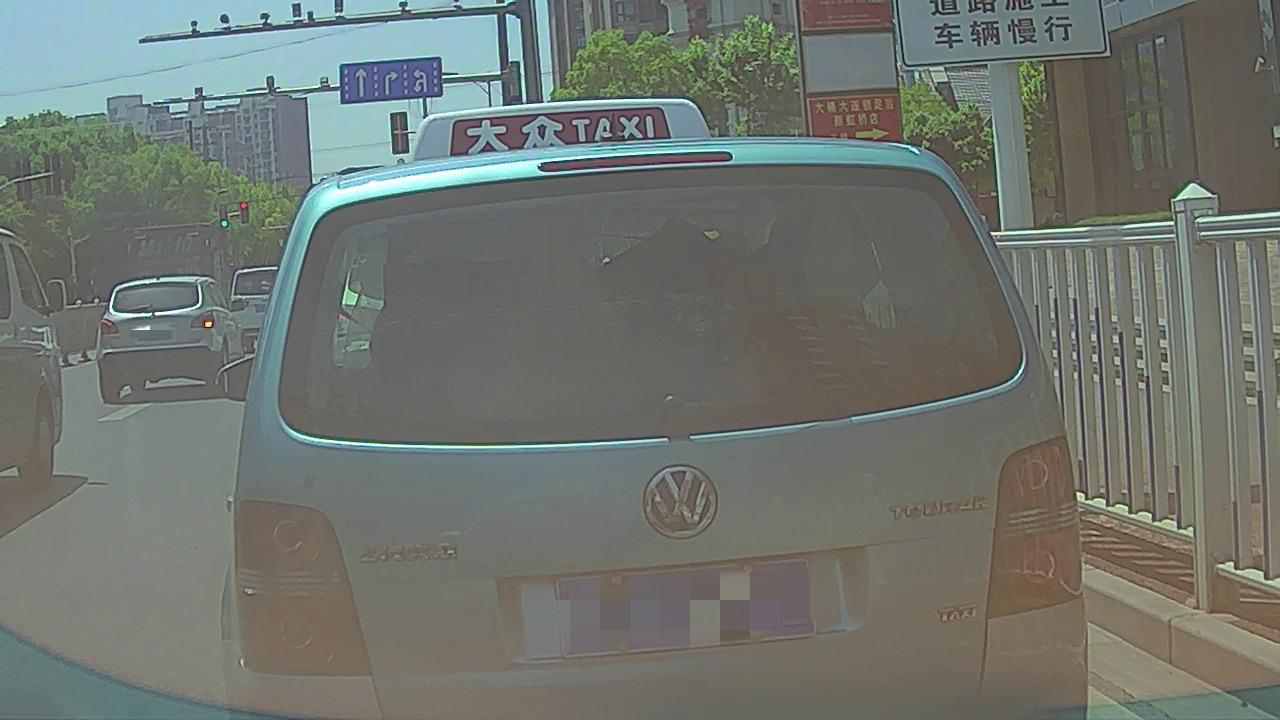traffic_light: (238, 202, 249, 225), (219, 206, 229, 229)
